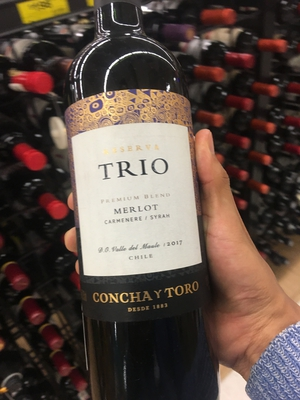trio merlot: (58, 11, 225, 400)
